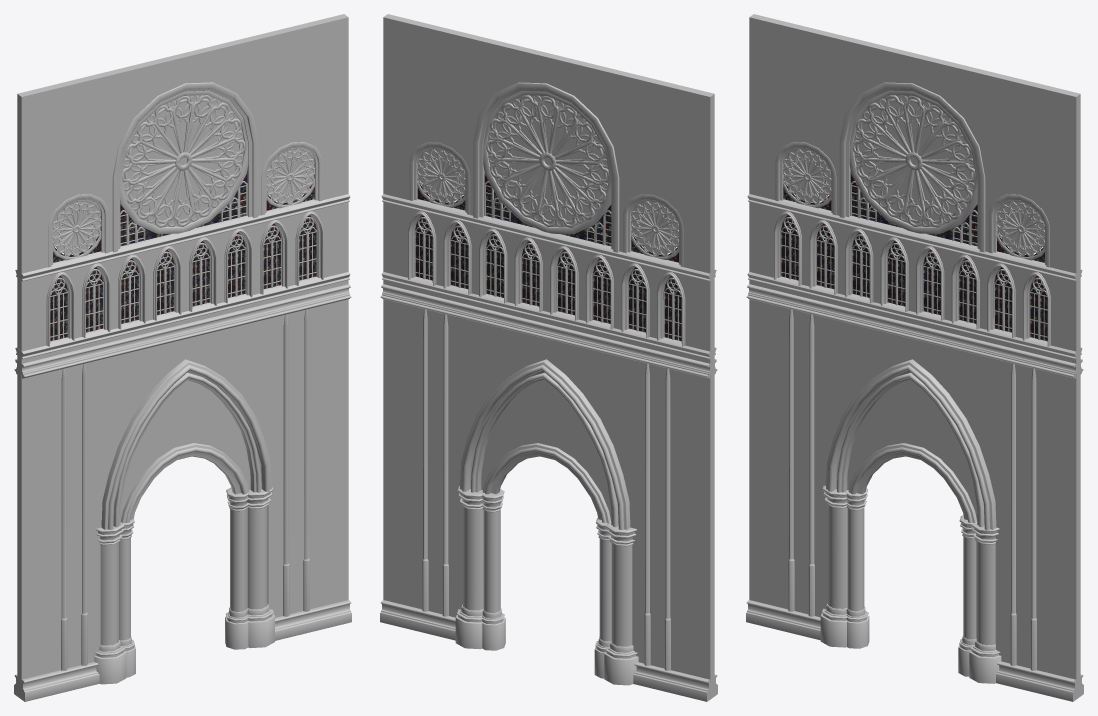
Rendered from Wall_E.fbx.
The picture shows the model from 3 angles, left to right: view 1: azimuth 30°, elevation 25°; view 2: azimuth 150°, elevation 25°; view 3: azimuth 330°, elevation 25°; orthographic projection.
Parts seen in each view (by area): view 1: Wall_E, Wall_E_Glass; view 2: Wall_E, Wall_E_Glass; view 3: Wall_E, Wall_E_Glass.
Boxes of the visible parts, left/top/right/bottom form: Wall_E: left=14, top=14, right=351, bottom=701; Wall_E_Glass: left=50, top=95, right=316, bottom=341; Wall_E: left=380, top=14, right=717, bottom=701; Wall_E_Glass: left=415, top=95, right=681, bottom=341; Wall_E: left=746, top=14, right=1083, bottom=701; Wall_E_Glass: left=781, top=95, right=1047, bottom=341.
Size of the model in its own units: 21 by 37 by 2.25.
